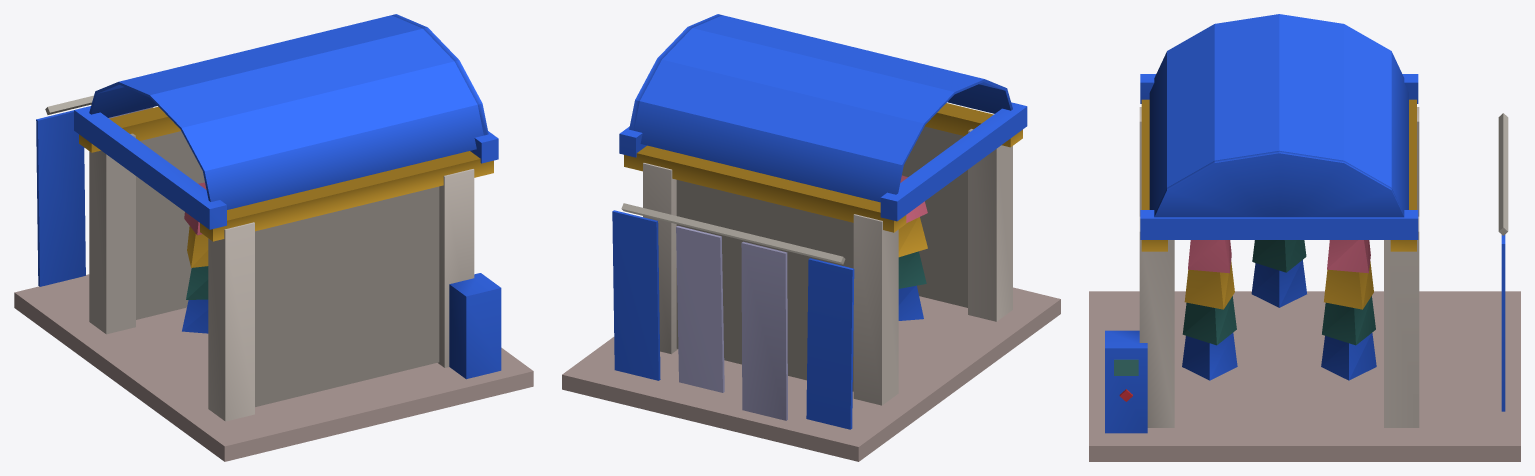
The picture shows the model from 3 angles, left to right: view 1: azimuth 30°, elevation 25°; view 2: azimuth 150°, elevation 25°; view 3: azimuth 270°, elevation 25°; orthographic projection. The views are drawn at different scales.
Parts seen in each view (by area): view 1: roof, object 9, interior, curtain, kiosk, brush_c; view 2: roof, object 9, curtain, interior, brush_c; view 3: object 9, roof, brush_b, brush_a, kiosk, brush_c, curtain.
Part boxes in pixels (x1,y1,x2,y2): roof: [74, 14, 498, 241]; object 9: [14, 133, 533, 461]; interior: [136, 131, 439, 406]; curtain: [36, 95, 153, 286]; kiosk: [449, 273, 501, 379]; brush_c: [182, 182, 208, 333]; roof: [619, 14, 1027, 232]; object 9: [562, 129, 1060, 461]; curtain: [612, 203, 854, 429]; interior: [676, 126, 967, 391]; brush_c: [898, 175, 927, 320]; object 9: [1089, 107, 1520, 461]; roof: [1140, 14, 1418, 251]; brush_b: [1182, 240, 1237, 380]; brush_a: [1321, 240, 1376, 380]; kiosk: [1105, 330, 1147, 433]; brush_c: [1251, 240, 1306, 307]; curtain: [1498, 113, 1508, 411].
Bounding box in the file's own units: 5 × 4.56 × 5.9.
